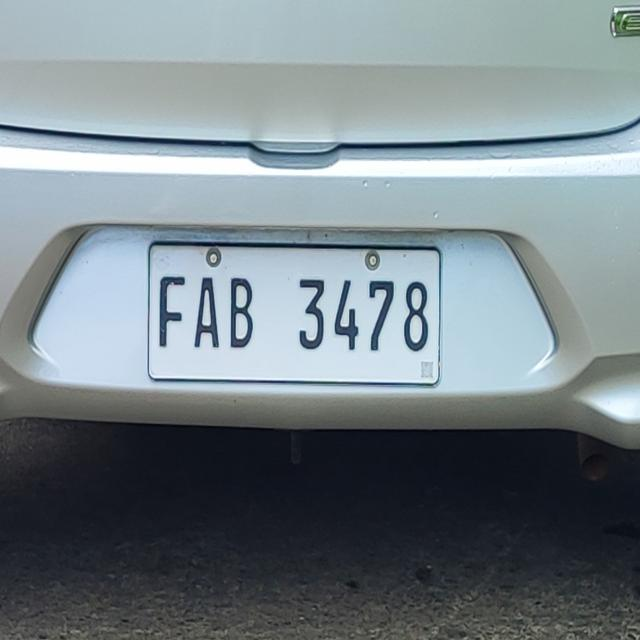plate: (146, 239, 444, 389)
